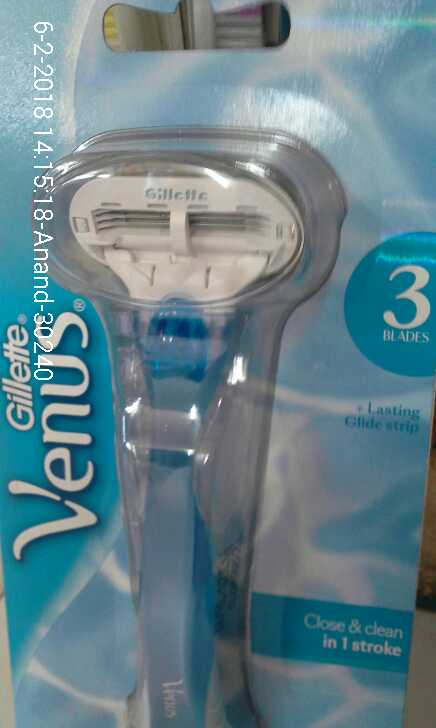venus: (36, 125, 350, 728)
